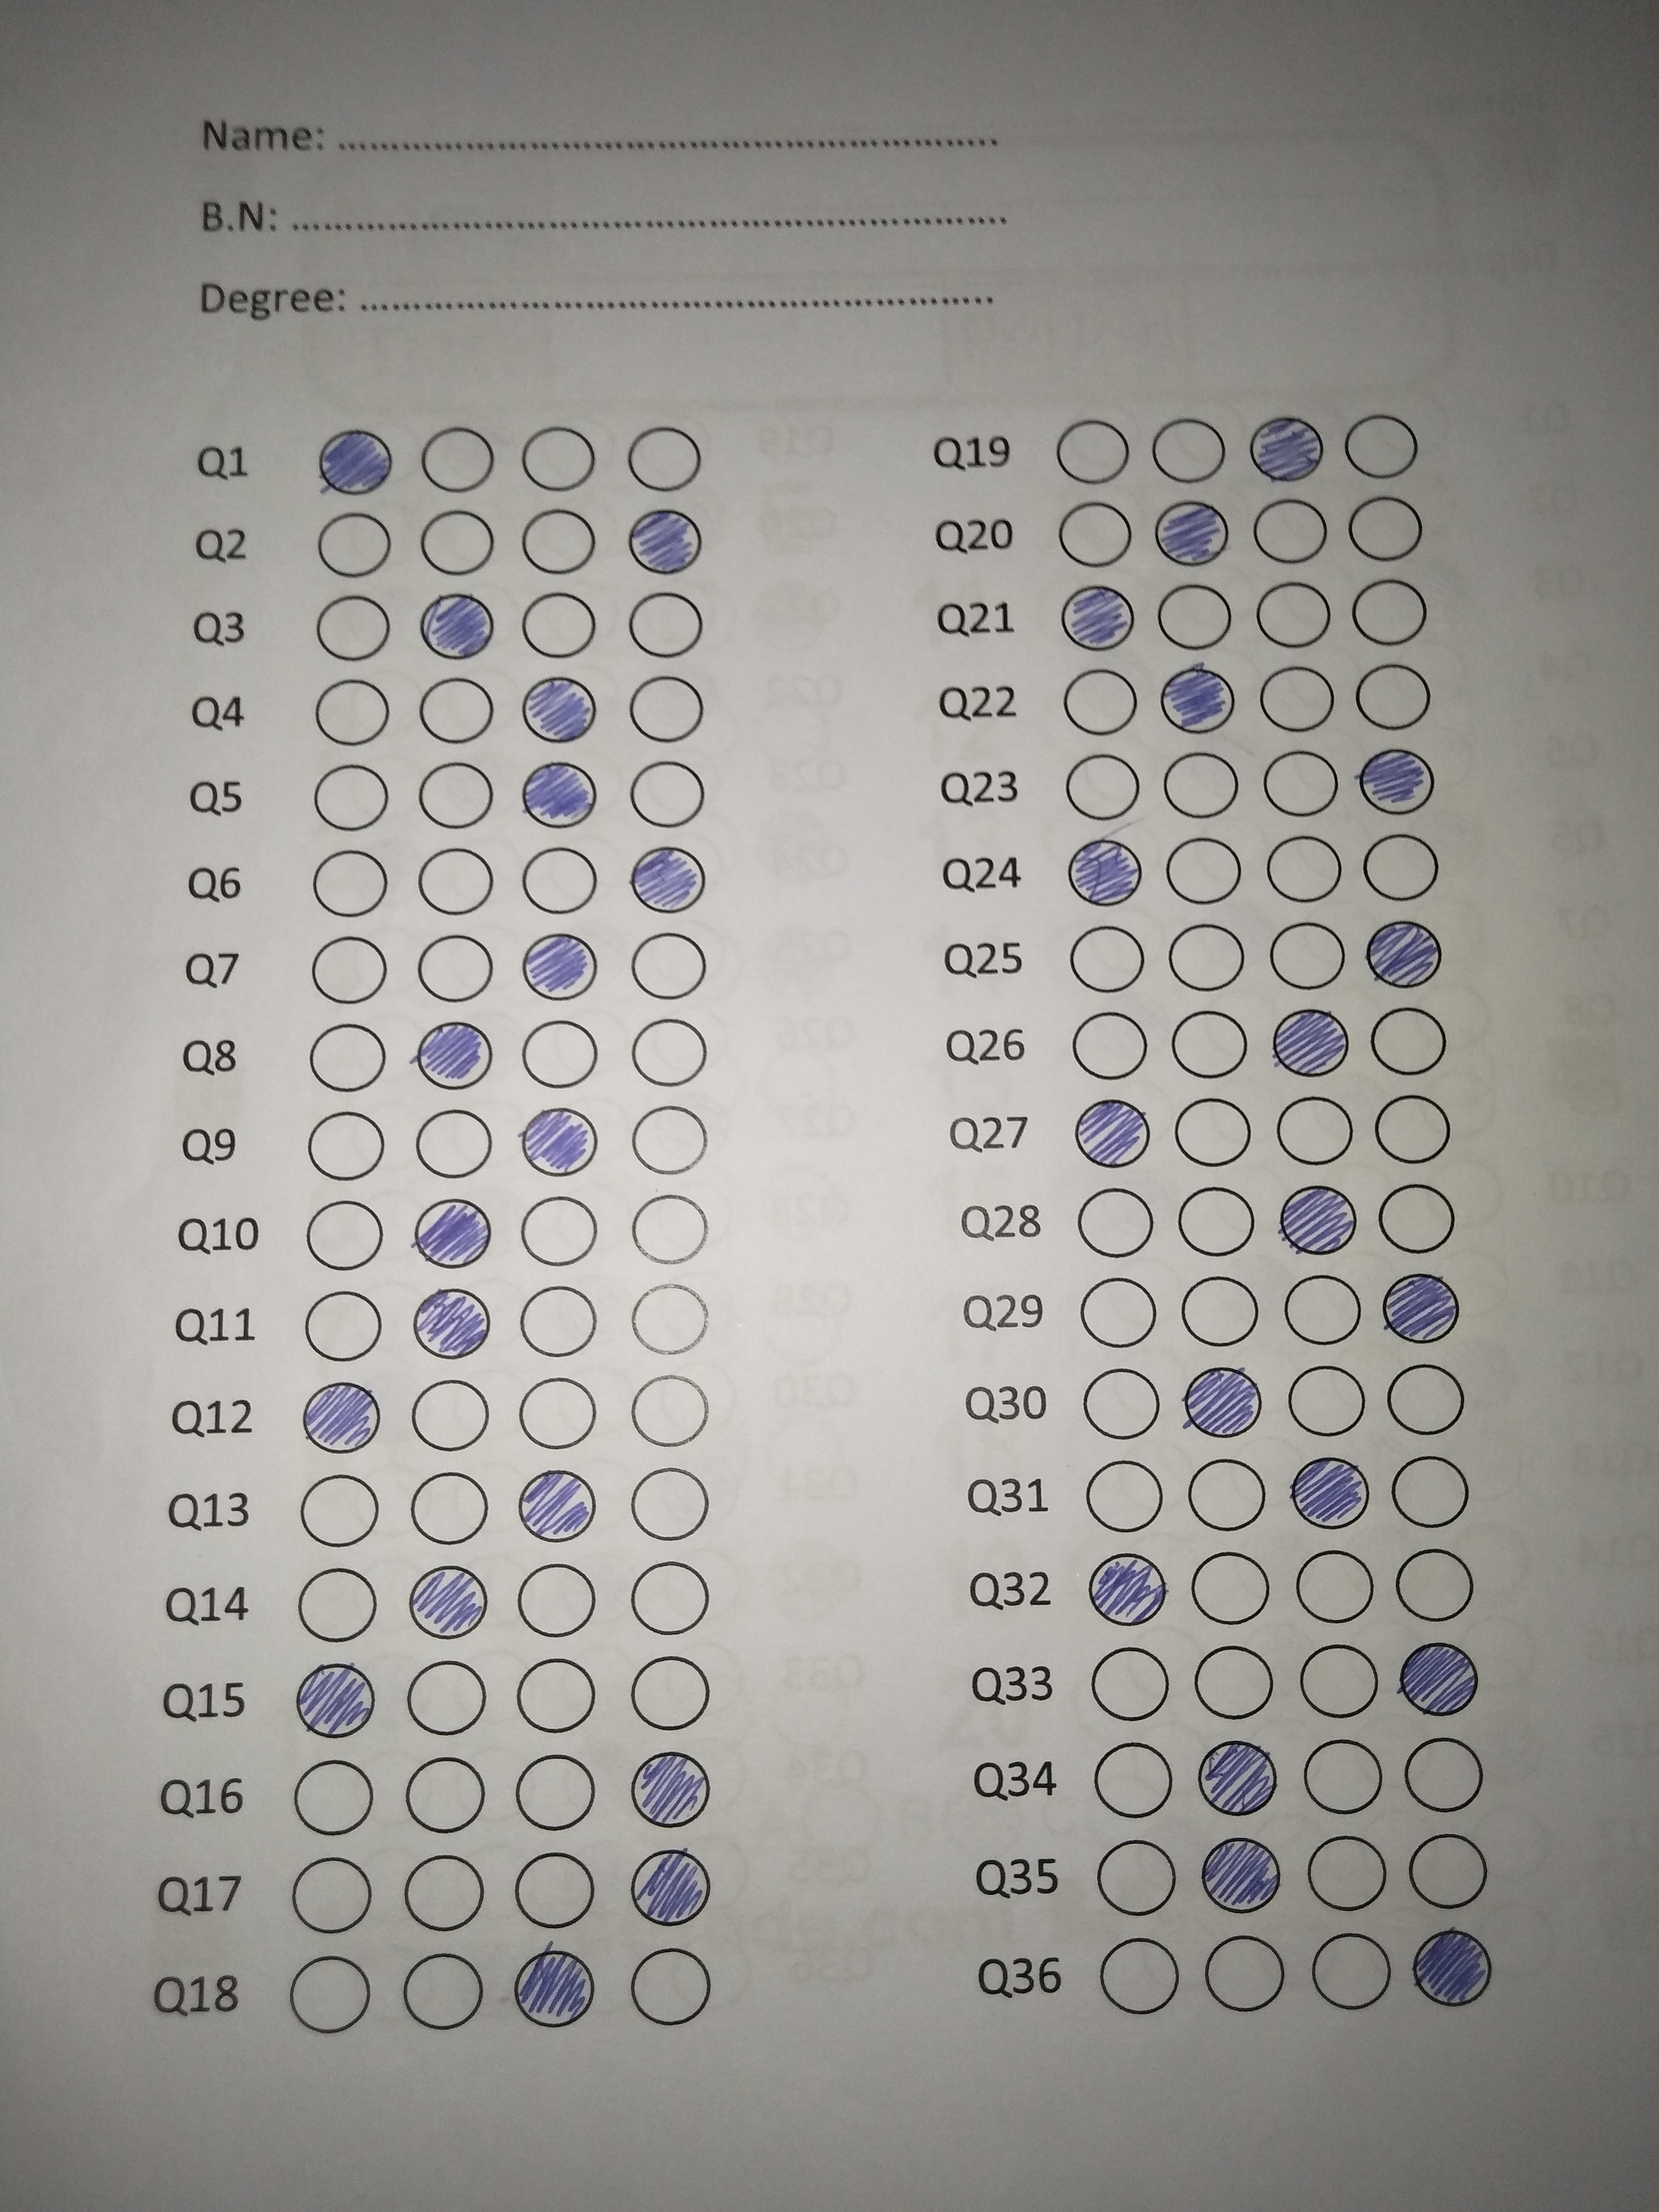not-c: (1398, 1728, 1499, 1817), (617, 1947, 720, 2034), (1087, 1935, 1192, 2020), (279, 1853, 380, 1940), (275, 1952, 376, 2040), (1087, 1834, 1185, 1923), (403, 1658, 502, 1745), (1385, 1545, 1485, 1630), (620, 1461, 721, 1545), (504, 1562, 606, 1644), (1293, 1733, 1389, 1820), (622, 1555, 723, 1637), (1302, 1827, 1398, 1912), (629, 1649, 720, 1738), (392, 1850, 484, 1937), (397, 1952, 497, 2033), (1351, 826, 1452, 904), (1077, 1367, 1180, 1444), (282, 1757, 380, 1838), (1305, 1926, 1396, 2012), (1382, 1449, 1474, 1533), (1086, 1639, 1178, 1723), (1370, 1087, 1466, 1167), (1073, 1458, 1171, 1536), (1063, 1277, 1162, 1353), (296, 1472, 387, 1555), (1286, 1547, 1377, 1630), (514, 1656, 606, 1738), (406, 1470, 500, 1550), (509, 1853, 603, 1933), (1047, 667, 1152, 738), (291, 1292, 397, 1362), (298, 1104, 390, 1184), (293, 1566, 385, 1646), (1087, 1740, 1180, 1820), (509, 1374, 603, 1453), (512, 1750, 598, 1836), (1406, 1827, 1492, 1912), (305, 759, 404, 833), (401, 1756, 491, 1836), (1164, 1007, 1255, 1087), (1371, 1179, 1462, 1259), (1066, 1184, 1159, 1263), (303, 846, 397, 923), (1364, 1003, 1459, 1080), (291, 1200, 387, 1275), (1201, 1933, 1291, 2012), (511, 1285, 605, 1360), (505, 507, 601, 580), (413, 759, 509, 833), (627, 1097, 713, 1179), (1194, 1642, 1279, 1724), (1384, 1357, 1471, 1437), (406, 509, 497, 585), (1166, 1096, 1256, 1172), (619, 758, 713, 831), (1058, 752, 1152, 826), (624, 1014, 713, 1090), (1269, 1094, 1358, 1170), (406, 1108, 497, 1183), (1061, 1008, 1152, 1083), (627, 1282, 713, 1360), (1185, 1552, 1270, 1630), (298, 1024, 394, 1094), (413, 848, 504, 921), (1148, 582, 1239, 655), (1251, 578, 1342, 651), (1349, 660, 1439, 733), (1054, 409, 1136, 489), (1176, 1183, 1260, 1261), (1297, 1642, 1380, 1721), (629, 1193, 714, 1270), (1342, 406, 1427, 482), (1260, 745, 1349, 819), (629, 928, 713, 1005), (411, 1376, 497, 1451), (622, 674, 709, 747), (410, 427, 498, 498), (518, 843, 606, 914), (1164, 749, 1253, 820), (631, 1374, 713, 1451), (301, 935, 394, 1003), (1178, 1277, 1262, 1352), (1253, 660, 1338, 733), (310, 676, 397, 747), (518, 590, 606, 660), (413, 934, 504, 1001), (1187, 1458, 1265, 1536), (312, 509, 396, 582), (519, 1195, 603, 1268), (1263, 918, 1347, 991), (518, 425, 603, 496), (1159, 923, 1246, 993), (519, 1021, 601, 1094), (1351, 575, 1432, 648), (1157, 836, 1243, 906), (413, 678, 500, 745), (629, 585, 708, 660), (1065, 921, 1147, 993), (1284, 1366, 1366, 1437), (310, 597, 397, 664), (624, 421, 702, 495), (1054, 500, 1134, 571), (1284, 1275, 1364, 1346), (1260, 831, 1342, 900), (1345, 495, 1427, 563), (1253, 496, 1335, 564), (1150, 416, 1225, 482)
taken-c: (626, 1844, 718, 1930), (624, 1745, 713, 1831), (1284, 1449, 1373, 1533), (293, 1658, 378, 1742), (300, 1376, 385, 1458), (512, 1949, 598, 2031), (1195, 1737, 1281, 1818), (1180, 1360, 1267, 1440), (1412, 1925, 1495, 2006), (1197, 1834, 1284, 1912), (1089, 1548, 1171, 1630), (1398, 1639, 1481, 1719), (416, 585, 498, 665), (413, 1193, 495, 1273), (411, 1284, 493, 1364), (410, 1561, 490, 1642), (1380, 1271, 1464, 1348), (1277, 1181, 1361, 1258), (1070, 1096, 1155, 1170), (519, 1467, 599, 1545), (1270, 1005, 1352, 1082), (415, 1019, 498, 1092), (518, 1106, 601, 1179), (1058, 582, 1140, 655), (624, 507, 709, 577), (519, 672, 598, 747), (317, 425, 399, 496), (1248, 415, 1324, 489), (1065, 838, 1143, 911), (1159, 664, 1237, 737), (519, 758, 599, 829), (519, 930, 599, 1001), (631, 841, 706, 916), (1364, 921, 1445, 991), (1359, 744, 1436, 815), (1155, 500, 1232, 570)
